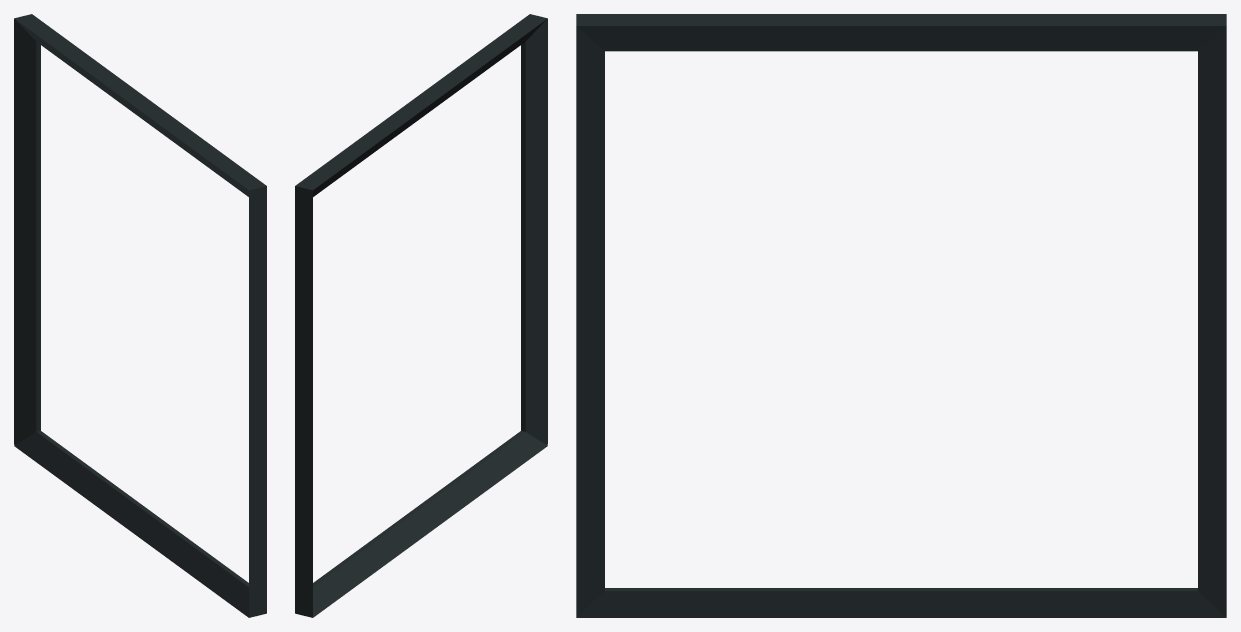
File: MirrorFrameV1.fbx
The picture shows the model from 3 angles, left to right: view 1: azimuth 30°, elevation 25°; view 2: azimuth 150°, elevation 25°; view 3: azimuth 270°, elevation 25°; orthographic projection. The views are drawn at different scales.
Visible parts, largest first — view 1: Cube; view 2: Cube; view 3: Cube.
Boxes of the visible parts, x1,y1,x2,y2 form: Cube: (14,14,266,617); Cube: (295,14,547,617); Cube: (576,14,1226,617).
Bounding box in the file's own units: 1073 × 47.35 × 1077.
